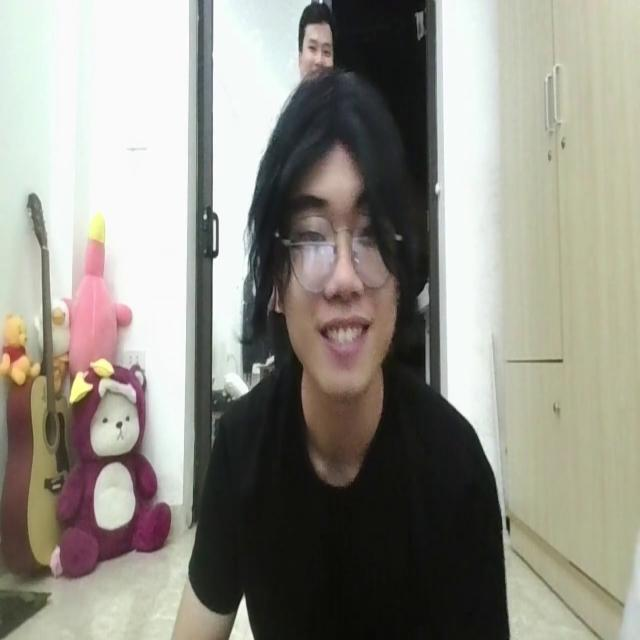student: (170, 66, 505, 640)
